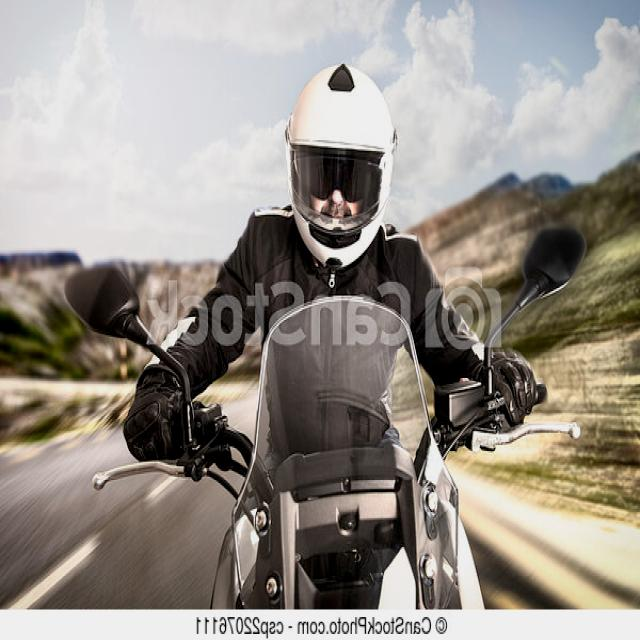helmet: (286, 64, 397, 265)
